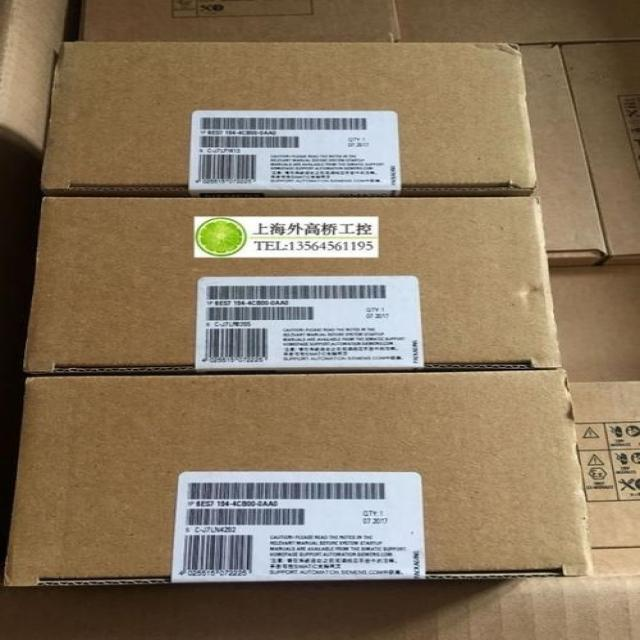box: (3, 368, 590, 587), (24, 197, 563, 374), (40, 40, 535, 191), (521, 44, 607, 269), (561, 40, 640, 264), (568, 380, 640, 576), (79, 0, 401, 42), (394, 0, 640, 43)
